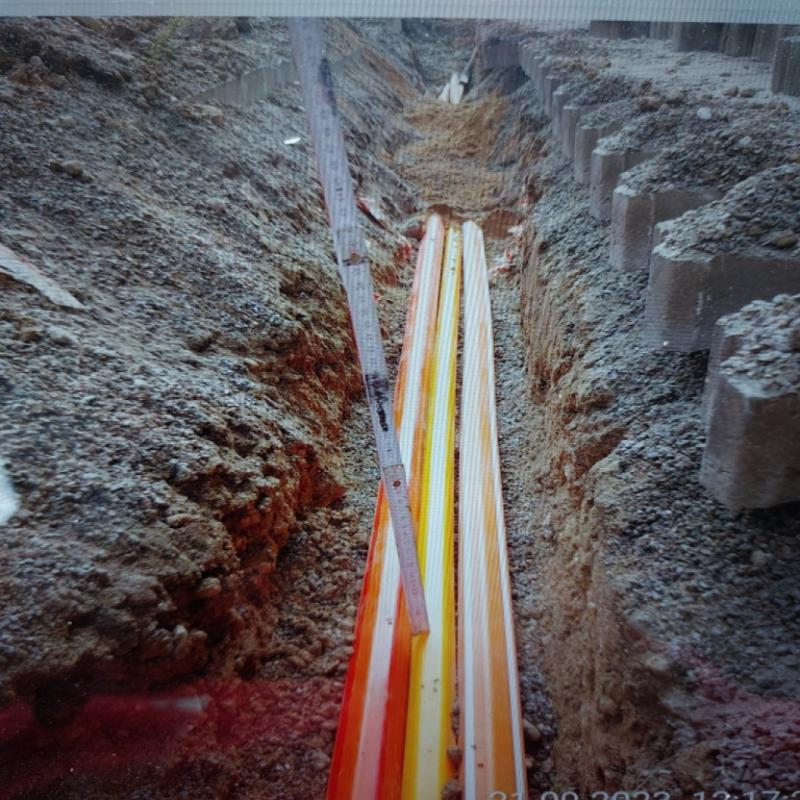Orang-Speednetrohrchen: (339, 219, 518, 798)
